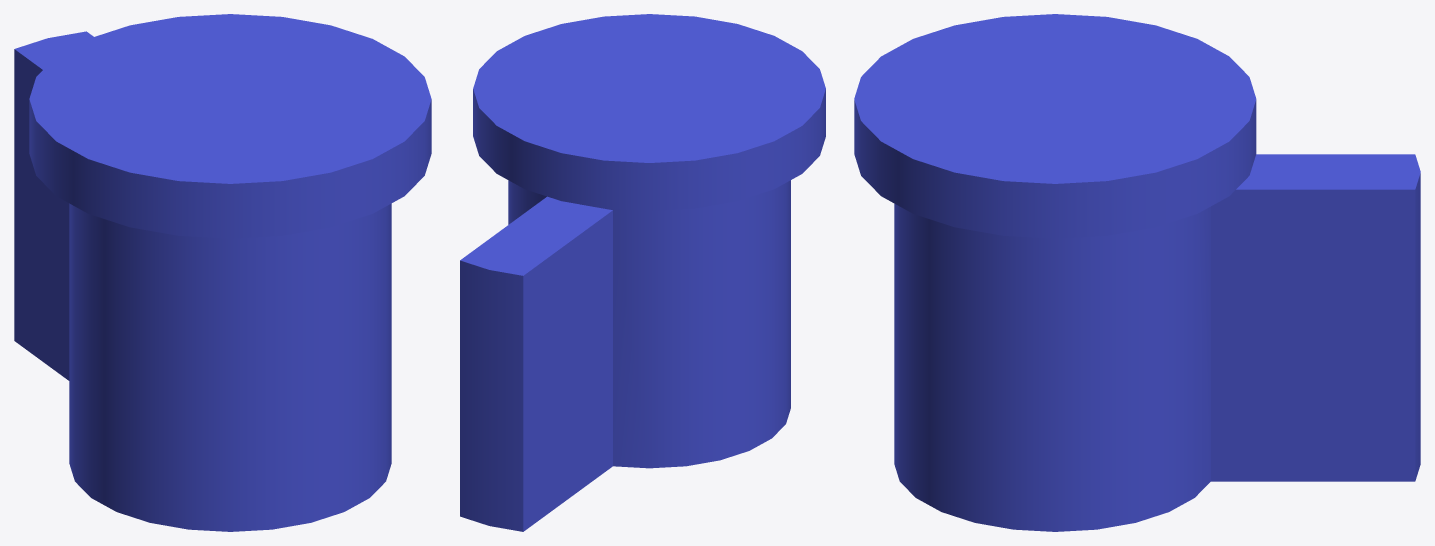
3 views of the same model, side by side, from view 1: azimuth 30°, elevation 25°; view 2: azimuth 150°, elevation 25°; view 3: azimuth 270°, elevation 25° (orthographic). The views are drawn at different scales.
Parts seen in each view (by area): view 1: QM-11.001; view 2: QM-11.001; view 3: QM-11.001.
Boxes of the visible parts, left/top/right/bottom form: QM-11.001: left=14, top=14, right=431, bottom=531; QM-11.001: left=460, top=14, right=825, bottom=531; QM-11.001: left=854, top=14, right=1420, bottom=531.
Bounding box in the file's own units: 3 × 3 × 4.22.
